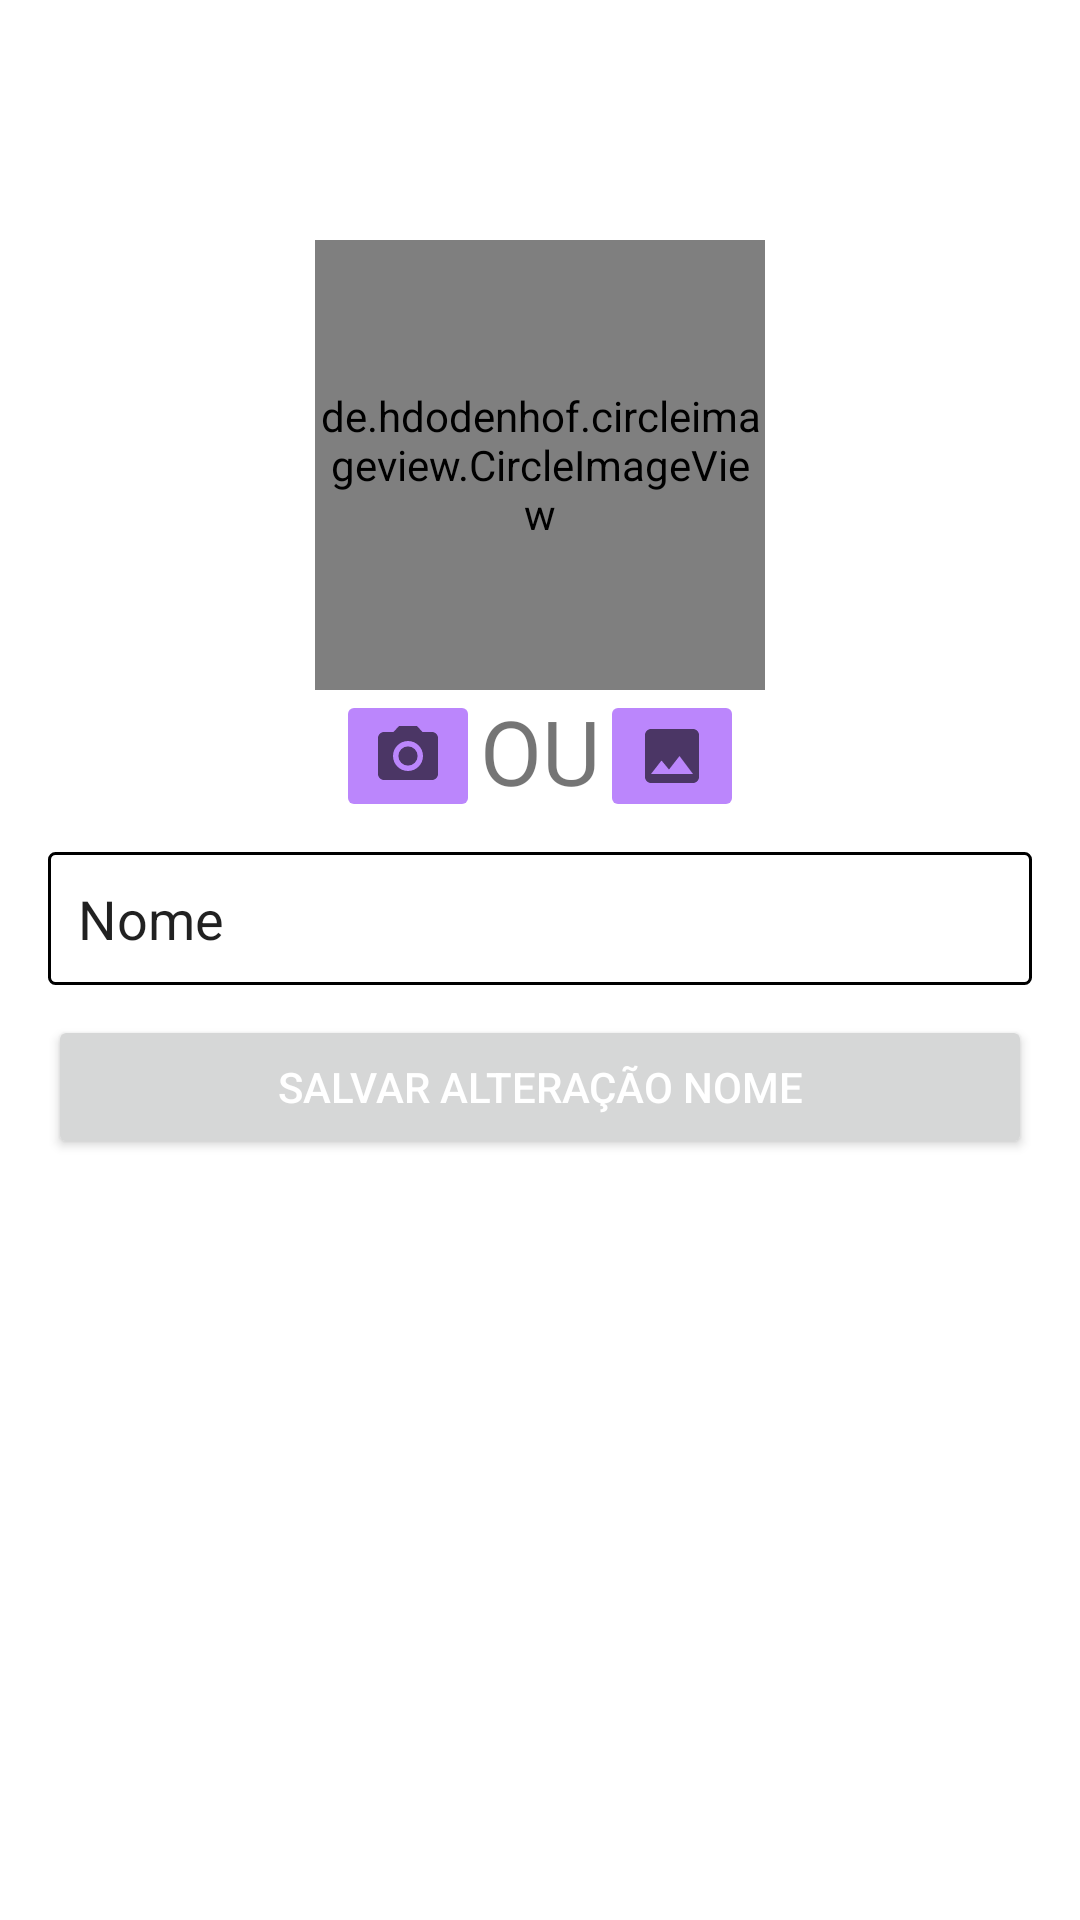

Icons on this 1080×1920 Android screen, each with its box as rect(x1, y1, x2, y2):
photo: rect(612, 708, 732, 804)
